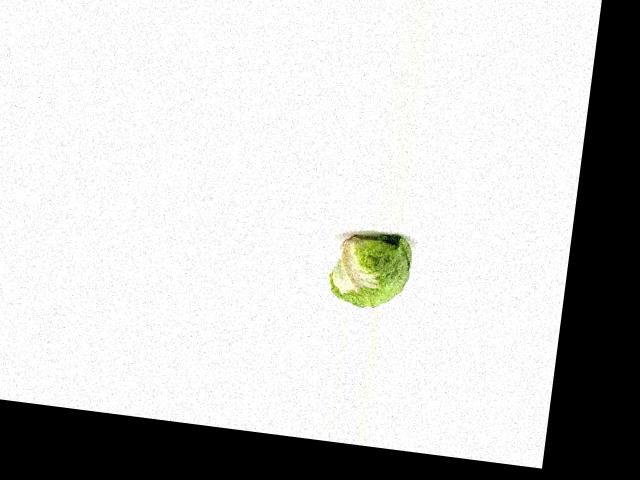lettuce: (324, 223, 416, 312)
